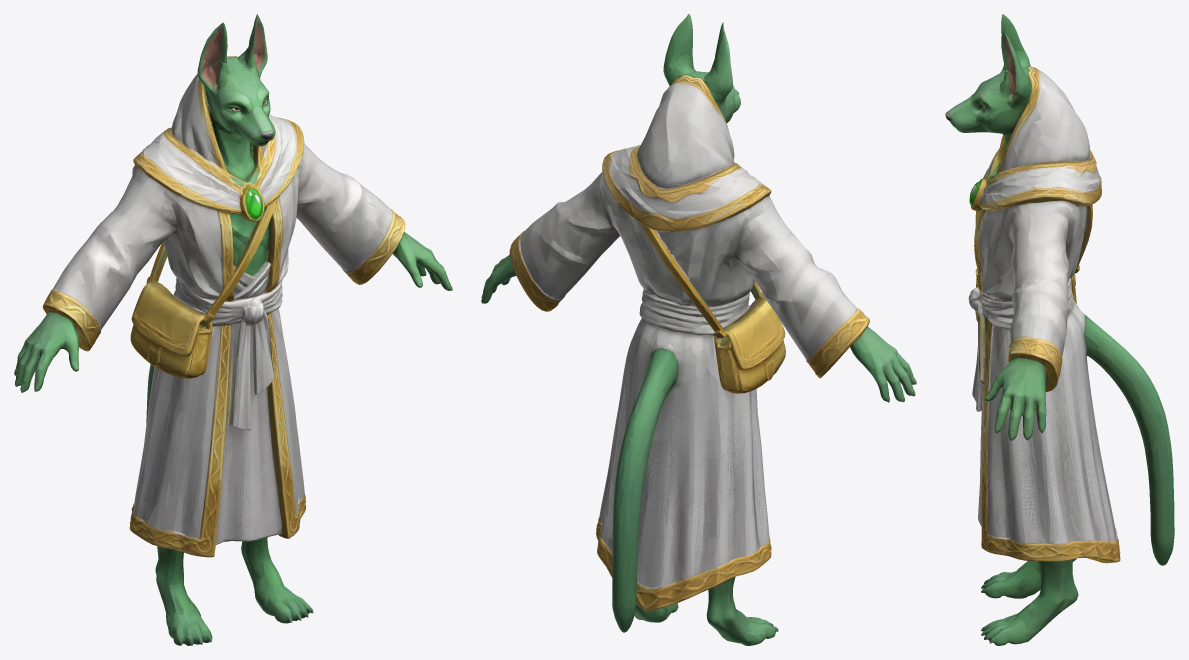
File: et_doctor.glb
3 renders of one model, left to right at view 1: azimuth 30°, elevation 25°; view 2: azimuth 150°, elevation 25°; view 3: azimuth 270°, elevation 25°, orthographic. The views are drawn at different scales.
Bounding box in the file's own units: 1.4 × 1.9 × 0.6653.
Materials: 1 (1 with a texture image).
